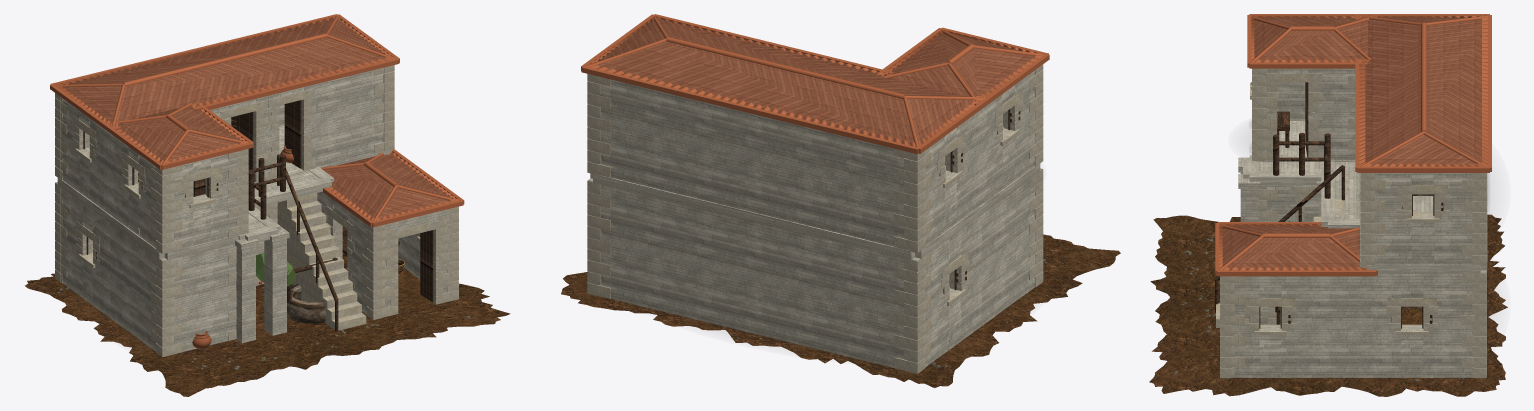
File: house@2.glb
The picture shows the model from 3 angles, left to right: view 1: azimuth 30°, elevation 25°; view 2: azimuth 150°, elevation 25°; view 3: azimuth 270°, elevation 25°; orthographic projection. The views are drawn at different scales.
Parts seen in each view (by area): view 1: part_4, part_5, part_19, part_1, part_20, part_9, part_6, part_0; view 2: part_4, part_19, part_5, part_20, part_1; view 3: part_4, part_19, part_5, part_1, part_20, part_9, part_0.
Boxes of the visible parts, box(x1,y1,x2,y2) form: part_4: box(55, 70, 458, 351); part_5: box(55, 65, 458, 357); part_19: box(63, 18, 450, 219); part_1: box(25, 273, 510, 396); part_20: box(50, 14, 464, 227); part_9: box(83, 100, 433, 331); part_6: box(287, 284, 325, 323); part_0: box(342, 238, 432, 310); part_4: box(587, 70, 1042, 367); part_19: box(596, 19, 1038, 145); part_5: box(587, 64, 1043, 373); part_20: box(581, 14, 1049, 154); part_1: box(561, 234, 1120, 388); part_4: box(1220, 68, 1487, 378); part_19: box(1219, 17, 1487, 270); part_5: box(1216, 68, 1486, 377); part_1: box(1149, 214, 1507, 396); part_20: box(1215, 14, 1491, 276); part_9: box(1215, 82, 1443, 328); part_0: box(1402, 308, 1422, 324).
Size of the model in its own units: 7.93 by 4.64 by 6.81.
20 materials, 11 textured.
